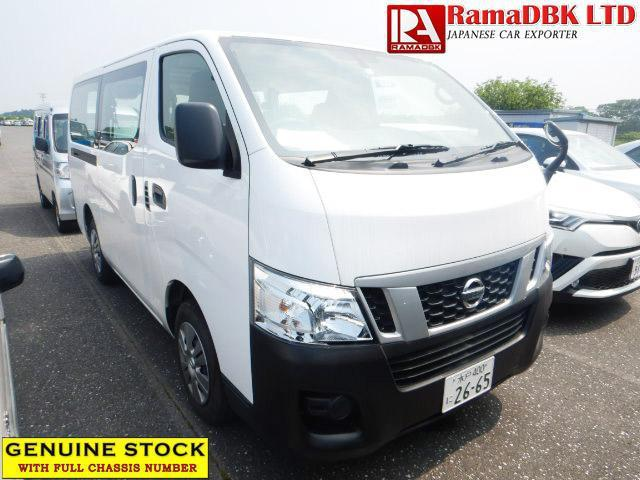Van: (72, 35, 557, 447)
